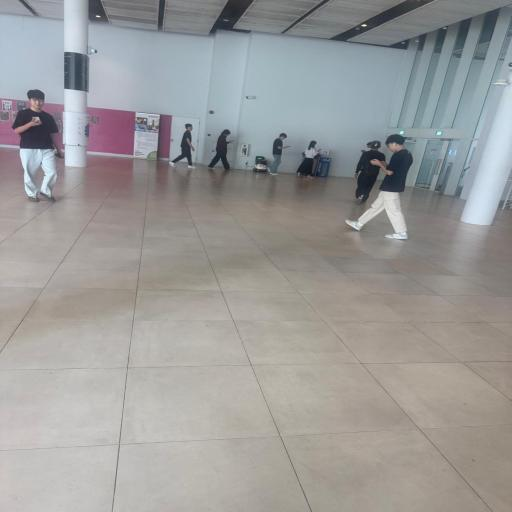person_left: (357, 135, 415, 239)
person_right: (170, 123, 198, 169), (208, 128, 236, 170), (296, 140, 321, 179), (269, 132, 291, 176)
